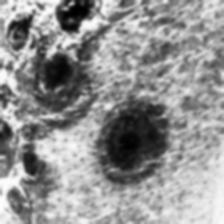Potentially Malignant Skin Tumors: (32, 0, 100, 44)
